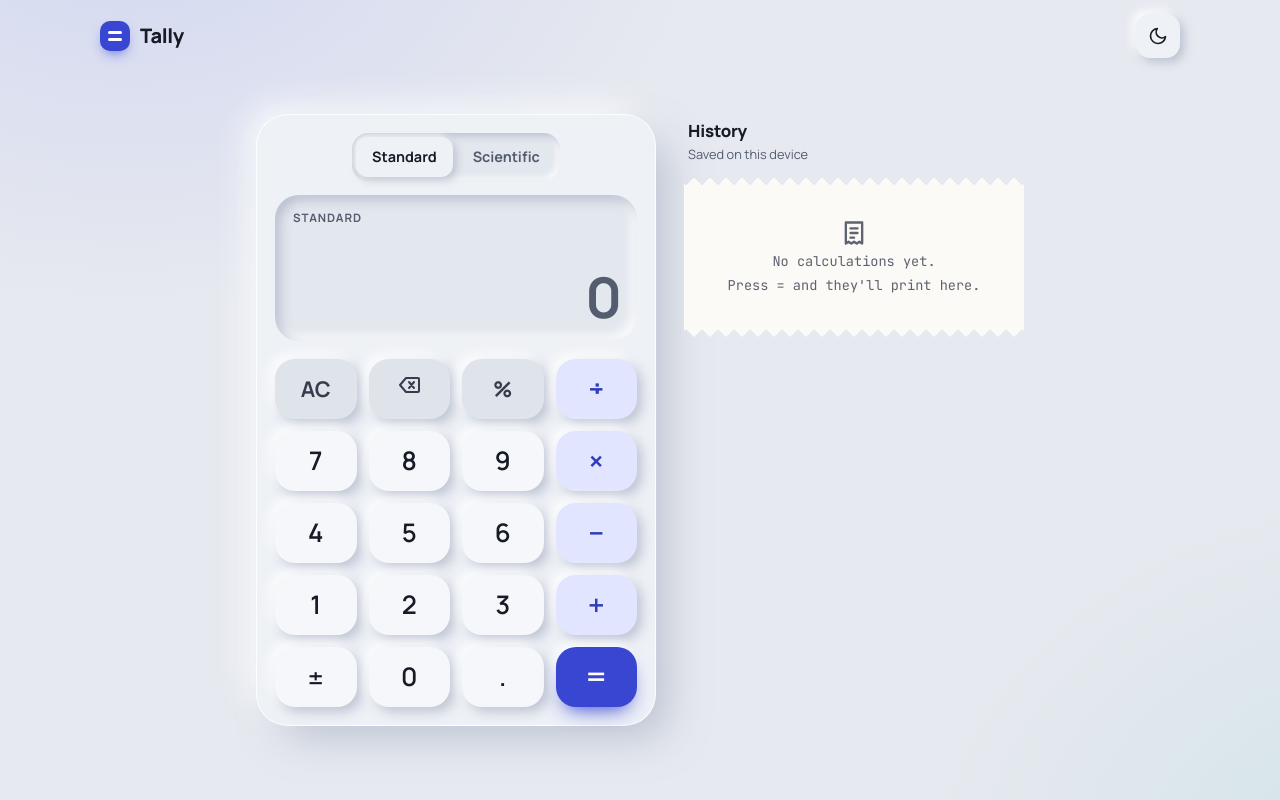
Test: display and keypad › evaluates on equals and continues from the result
This screenshot has width=1280, height=800.
Click the button "2" at (409, 605), box top-left (368, 575), bottom-right (450, 635)
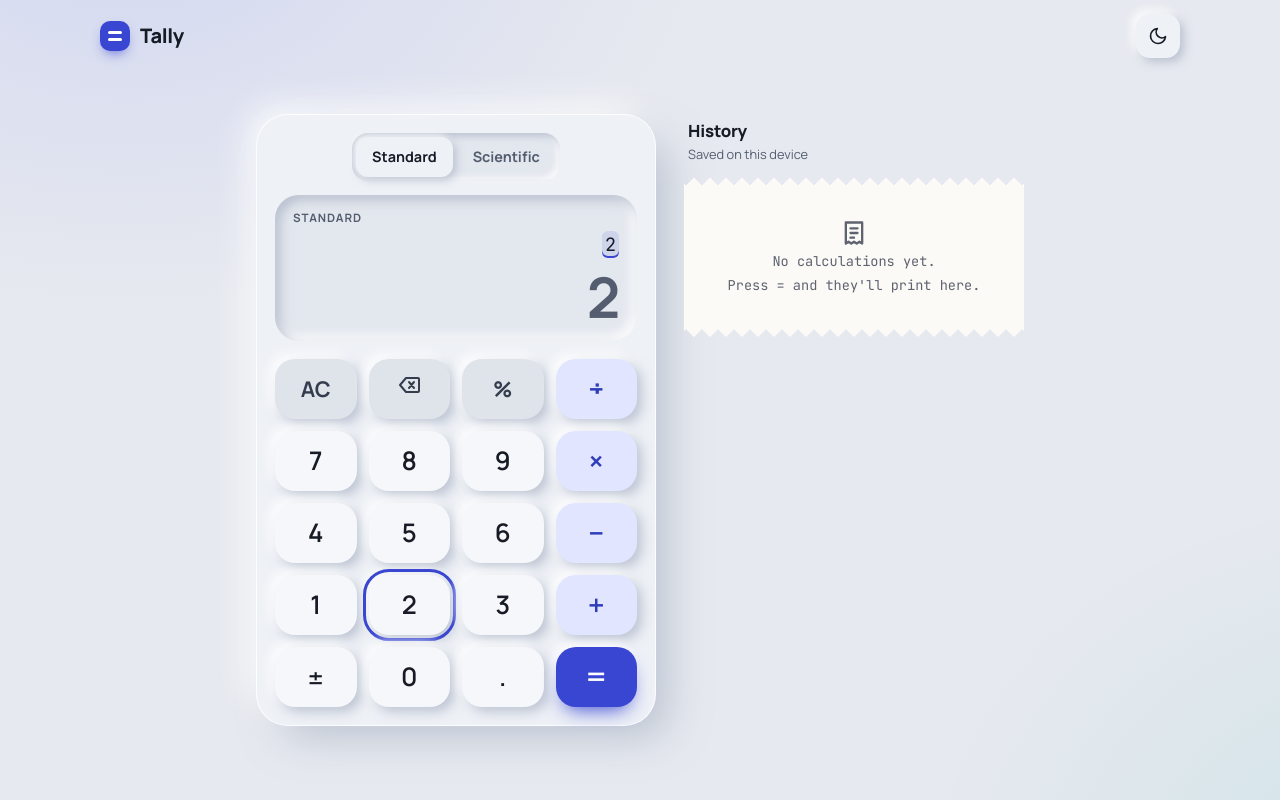
Click the button named "plus" at (596, 605), box top-left (556, 575), bottom-right (637, 635)
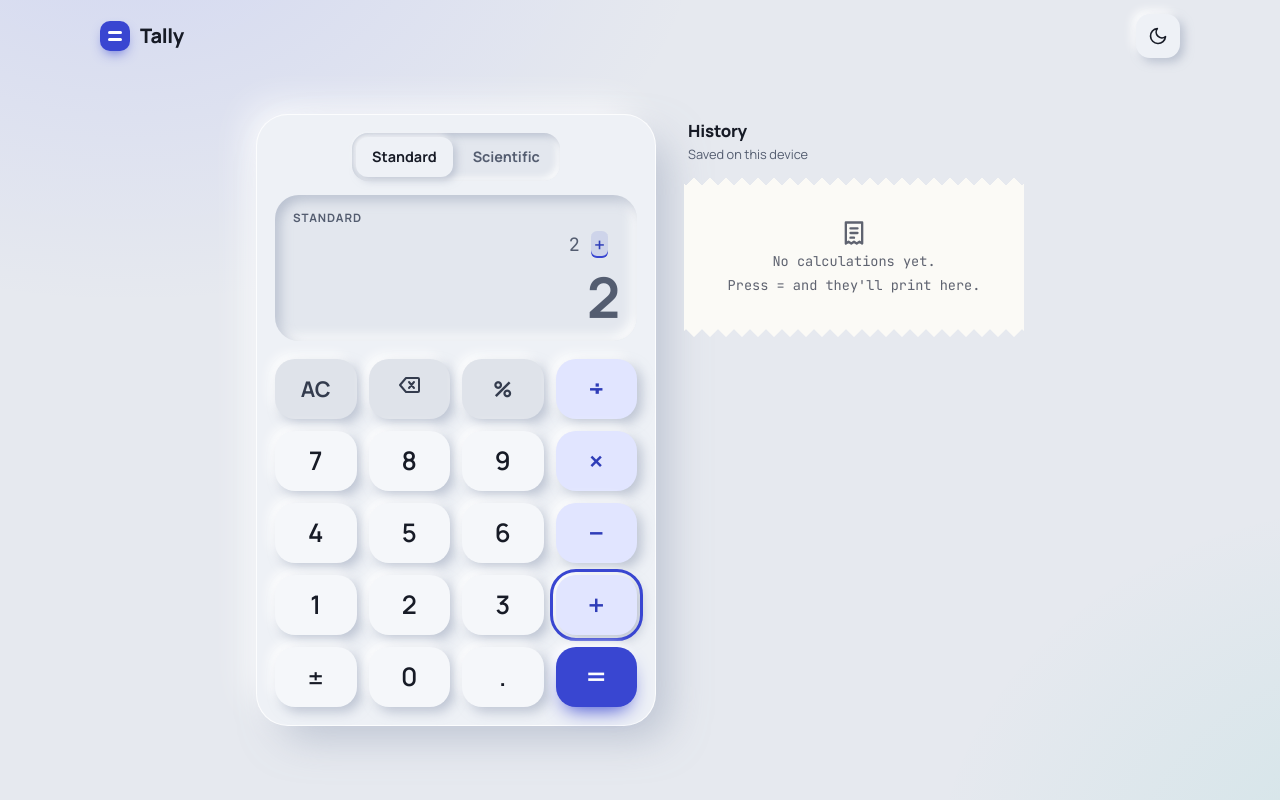
Click the button "3" at (503, 605), box top-left (462, 575), bottom-right (544, 635)
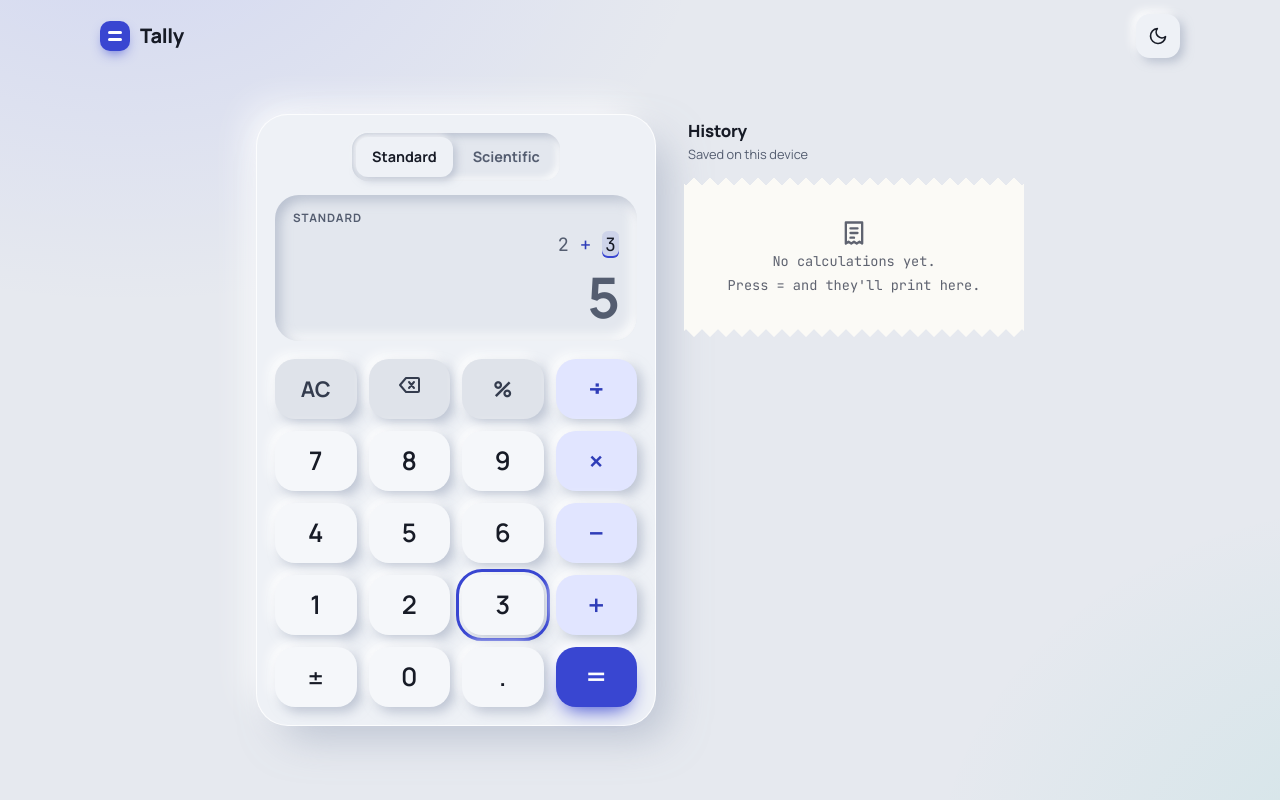
Click the button named "equals" at (596, 677), box top-left (556, 647), bottom-right (637, 707)
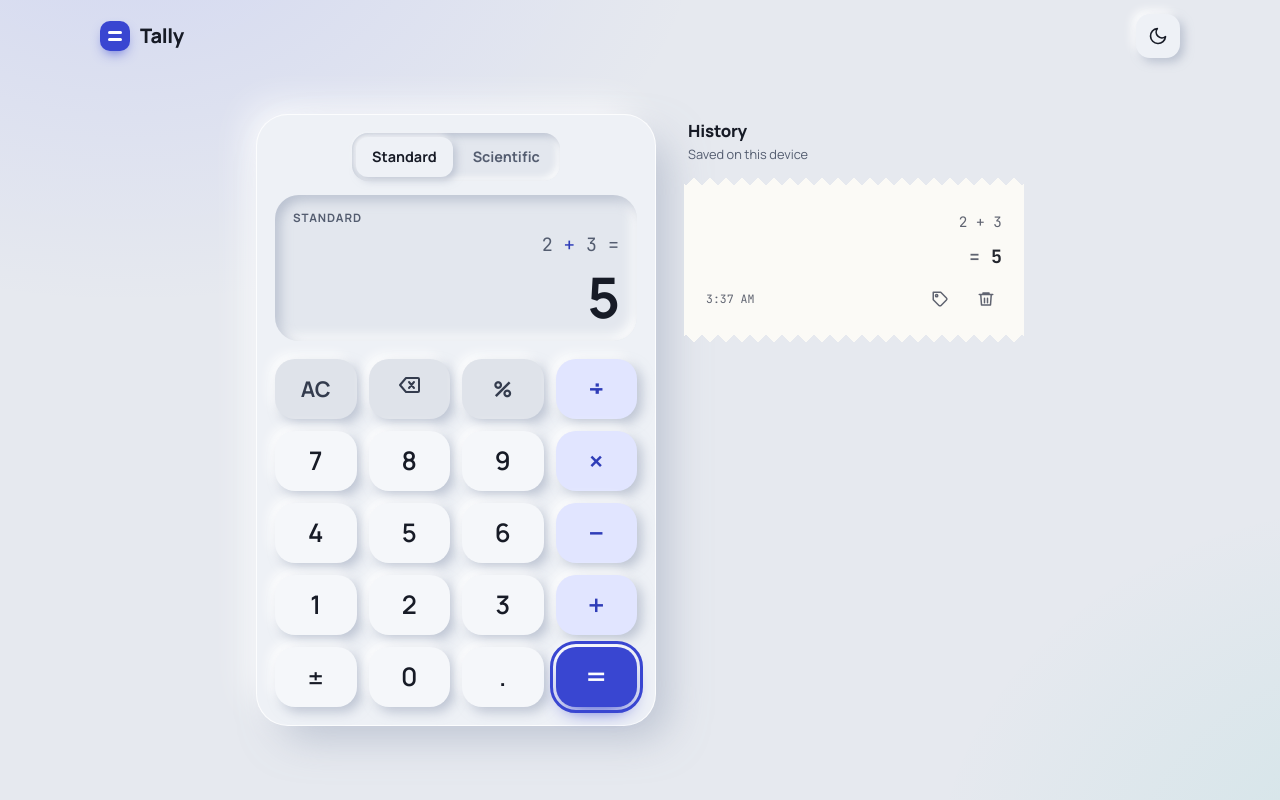
Check: the text with test id "result" reads "5", box top-left (586, 258), bottom-right (619, 335)
Check: the field with test id "expression" reads "2 + 3 =", box top-left (542, 232), bottom-right (619, 257)
Click the button named "plus" at (596, 605), box top-left (556, 575), bottom-right (637, 635)
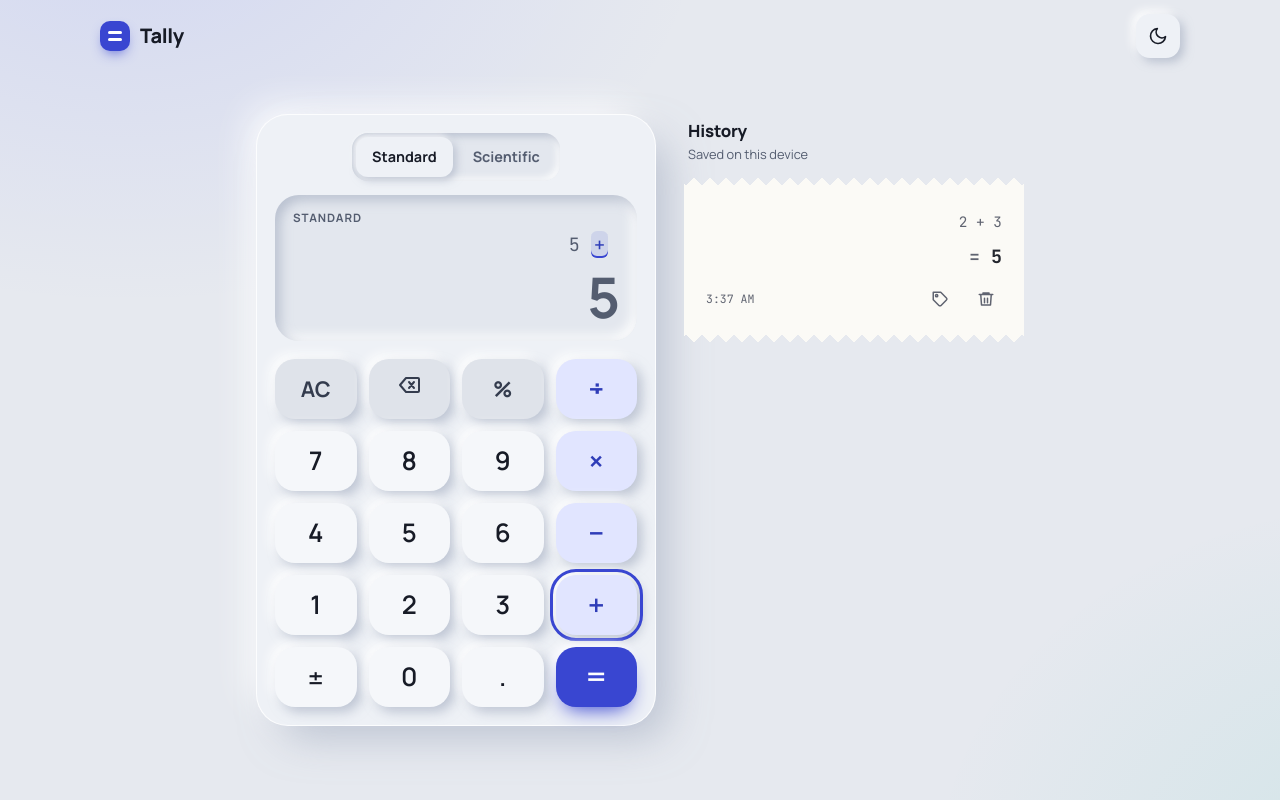
Click the button "1" at (316, 605), box top-left (275, 575), bottom-right (356, 635)
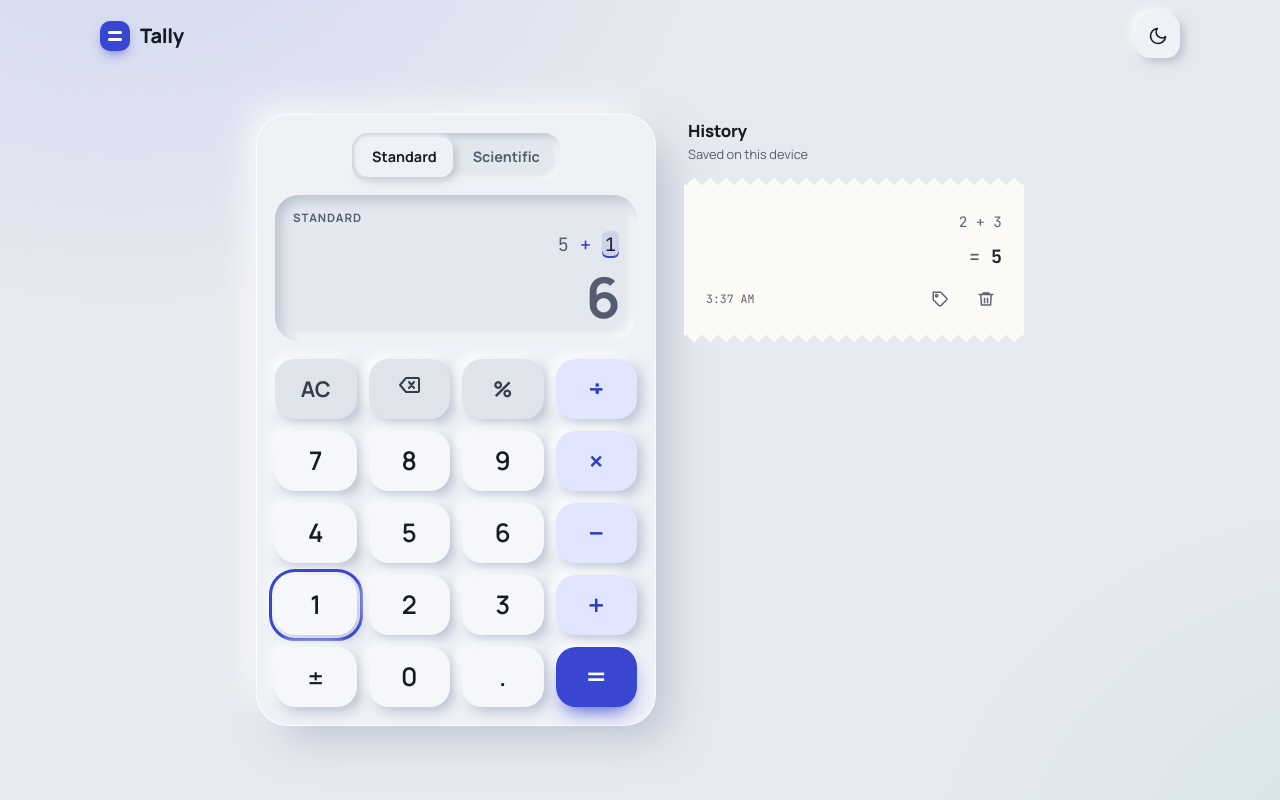
Check: the field with test id "expression" reads "5 + 1", box top-left (558, 231), bottom-right (619, 258)
Check: the text with test id "result" reads "6", box top-left (586, 258), bottom-right (619, 335)
